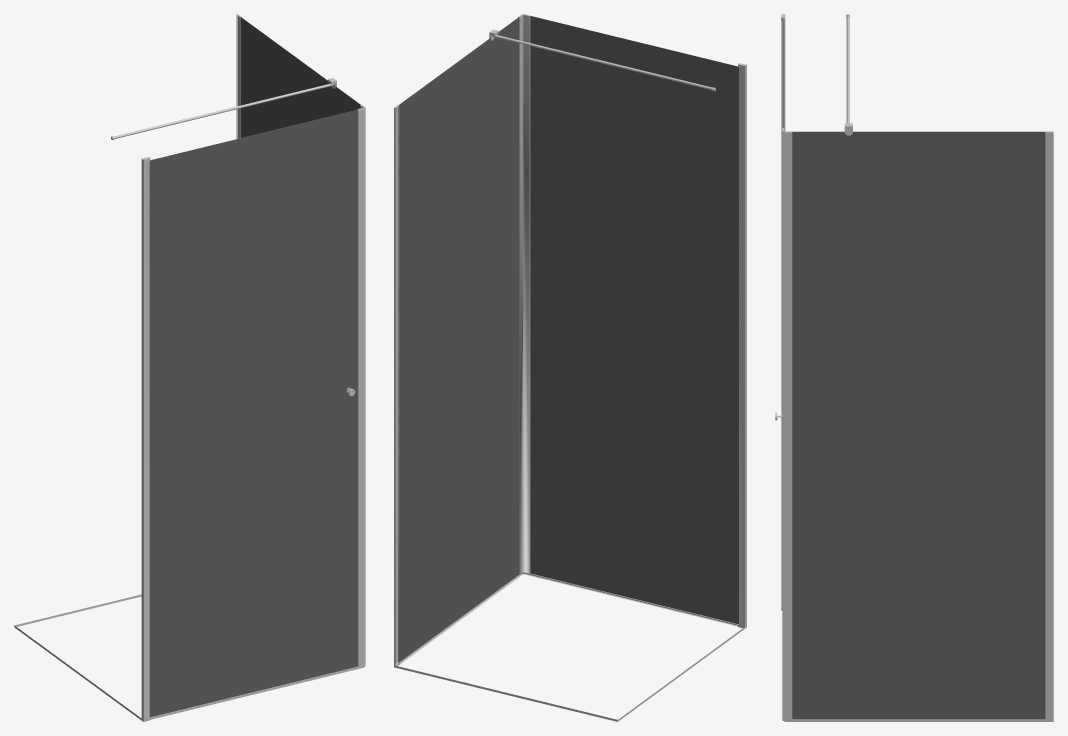
File: Shower_enclosures_001.gltf
3 renders of one model, left to right at view 1: azimuth 30°, elevation 25°; view 2: azimuth 150°, elevation 25°; view 3: azimuth 270°, elevation 25°, orthographic. The views are drawn at different scales.
Visible parts, largest first — view 1: Shower_enclosures_001; view 2: Shower_enclosures_001; view 3: Shower_enclosures_001.
Boxes of the visible parts, left/top/right/bottom form: Shower_enclosures_001: left=14, top=14, right=365, bottom=721; Shower_enclosures_001: left=394, top=14, right=746, bottom=721; Shower_enclosures_001: left=775, top=14, right=1053, bottom=721.
Bounding box in the file's own units: 0.8464 × 2.04 × 0.8649.
Materials: 2 (2 with a texture image).
